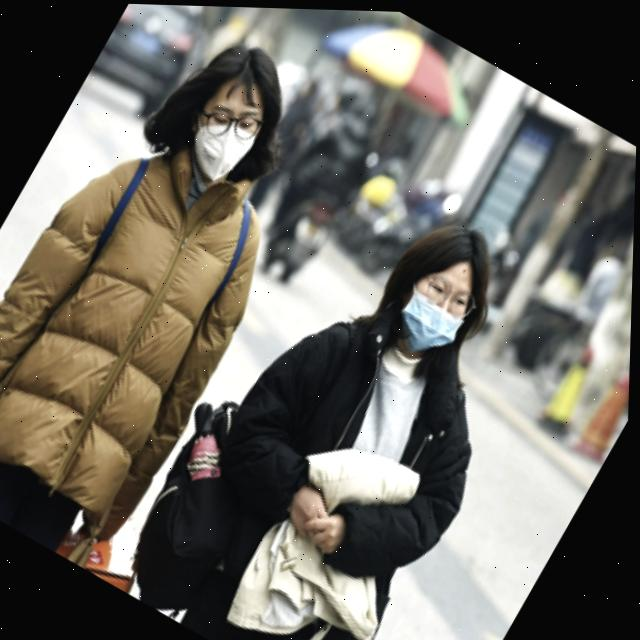Mask: (166, 100, 268, 190), (387, 279, 479, 363)
